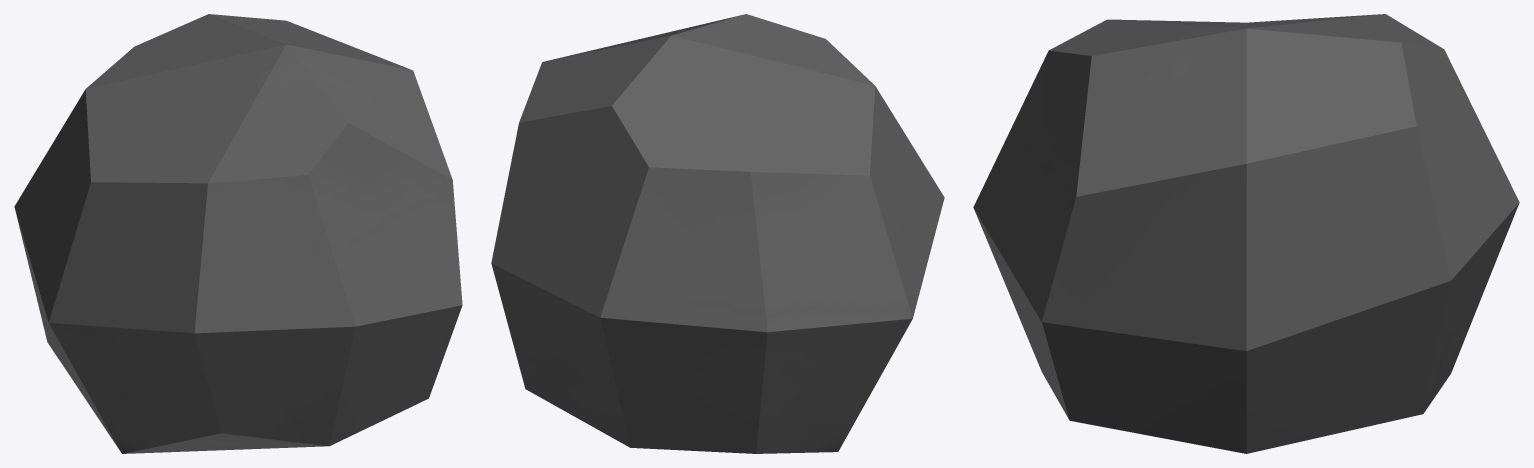
The model's file is rock.glb.
3 views of the same model, side by side, from view 1: azimuth 30°, elevation 25°; view 2: azimuth 150°, elevation 25°; view 3: azimuth 270°, elevation 25° (orthographic). The views are drawn at different scales.
Parts seen in each view (by area): view 1: rock; view 2: rock; view 3: rock.
Part boxes in pixels (<box>): rock: <box>14,14,462,453</box>; rock: <box>491,14,944,453</box>; rock: <box>973,14,1519,453</box>.
Size of the model in its own units: 2.29 by 2.16 by 2.42.
1 material, 1 textured.
